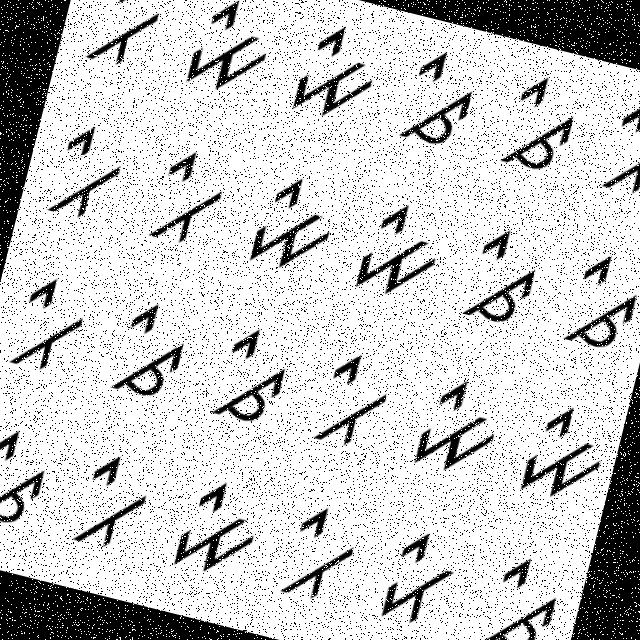bi: (132, 139, 240, 259), (302, 346, 401, 471), (1, 262, 102, 384), (36, 113, 134, 231), (268, 496, 365, 613), (66, 444, 160, 560), (75, 0, 170, 80), (595, 93, 639, 210)
ci: (454, 214, 556, 336), (200, 316, 302, 434), (545, 233, 639, 360), (388, 38, 489, 156), (492, 66, 588, 180), (105, 292, 199, 407), (474, 545, 575, 639), (0, 421, 63, 538)
mi: (401, 363, 511, 484), (344, 192, 454, 311), (165, 464, 272, 584), (278, 13, 387, 126), (506, 392, 614, 505), (242, 168, 342, 282), (174, 0, 282, 105)
